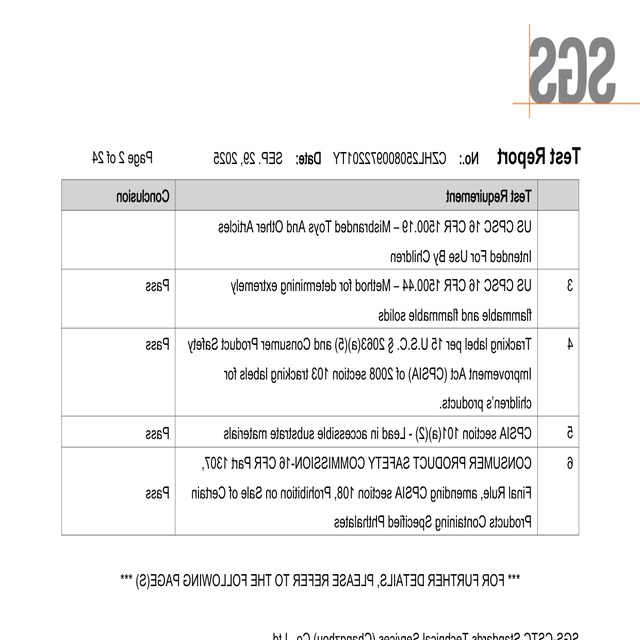sgs: (529, 35, 616, 104)
